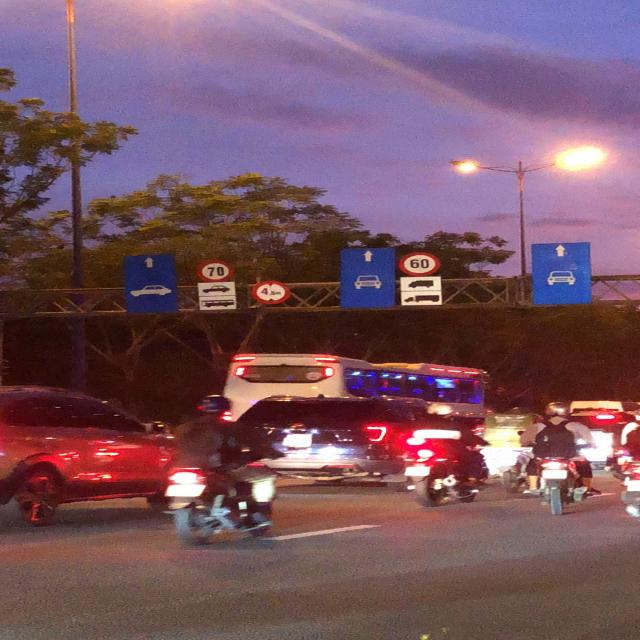Bien bao han che chieu cao: (248, 279, 293, 307)
Bien bao toc do toi da cho phep: (393, 250, 442, 278), (192, 256, 234, 283)
